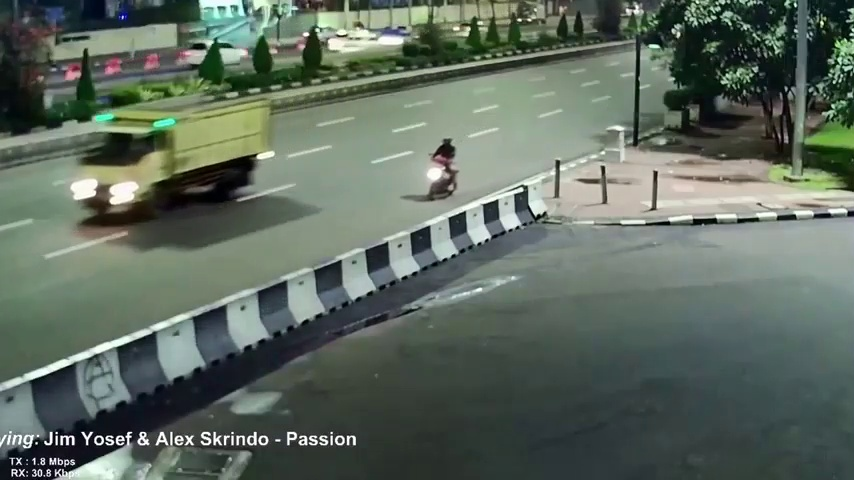car: (68, 91, 271, 223)
motorbike: (422, 137, 462, 201)
